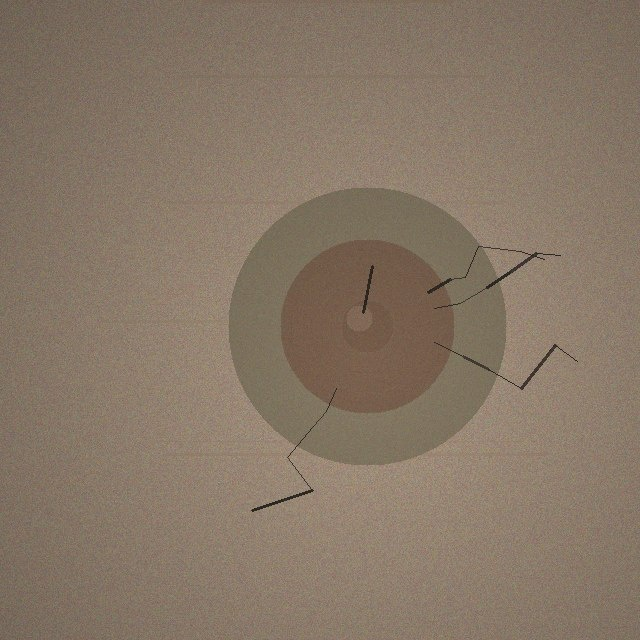crack: (228, 187, 506, 465)
